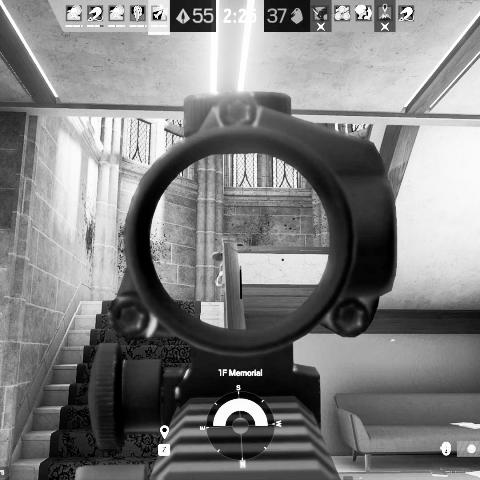Character: (214, 249, 225, 289)
